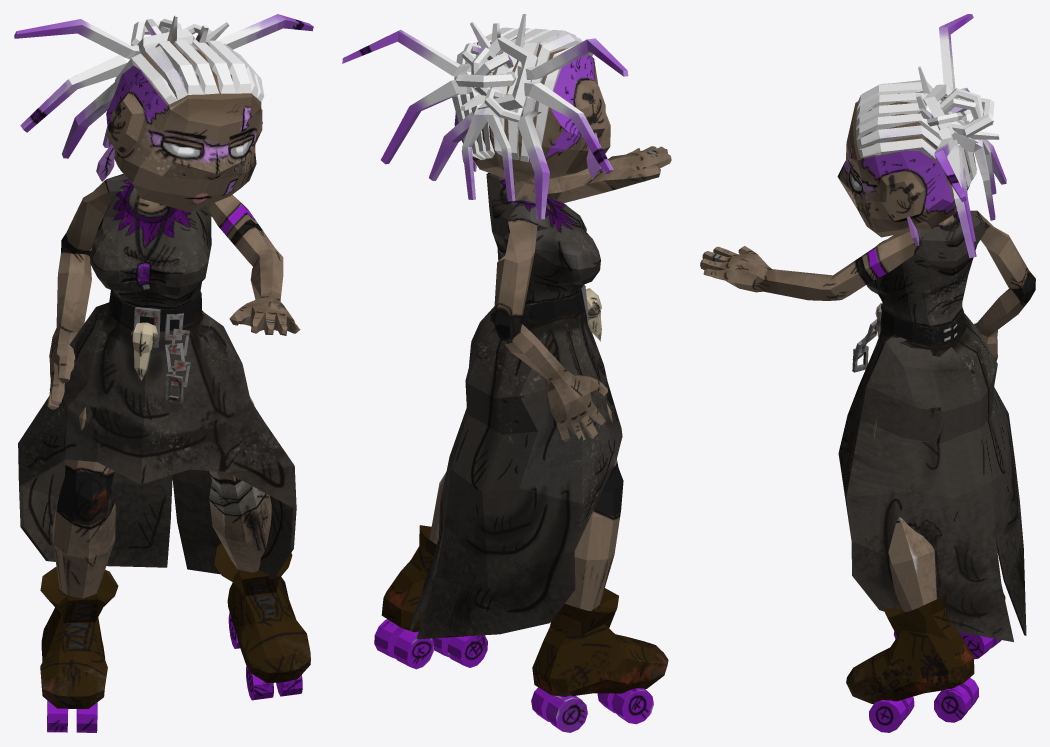
Rendered from bruja_000034.obj.
3 views of the same model, side by side, from view 1: azimuth 30°, elevation 25°; view 2: azimuth 150°, elevation 25°; view 3: azimuth 270°, elevation 25° (orthographic). The views are drawn at different scales.
Visible parts, largest first — view 1: Bruja_Plane.001; view 2: Bruja_Plane.001; view 3: Bruja_Plane.001.
Boxes of the visible parts, bbox=[...] form: Bruja_Plane.001: bbox=[14, 14, 313, 732]; Bruja_Plane.001: bbox=[342, 14, 671, 732]; Bruja_Plane.001: bbox=[700, 14, 1035, 732].
Bounding box in the file's own units: 7.48 × 16.55 × 8.04.
